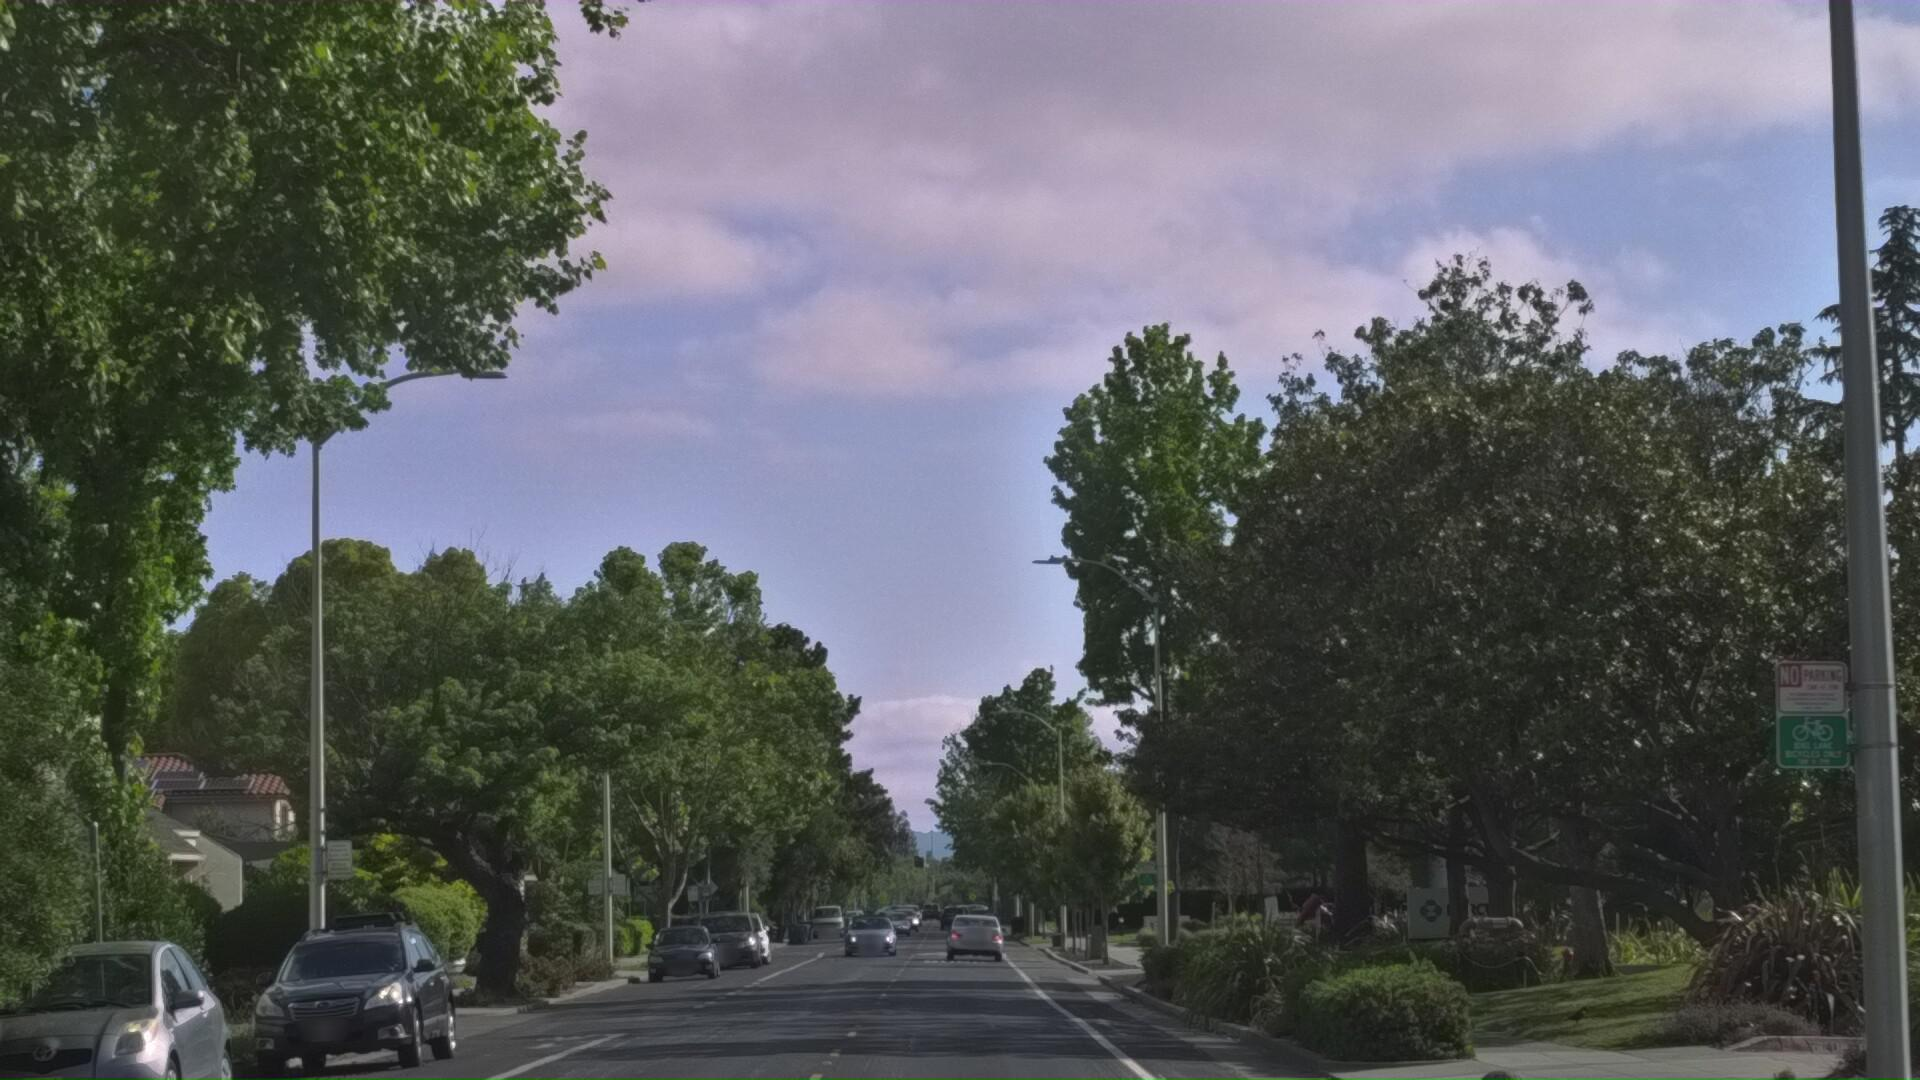car: (233, 994, 472, 1080), (0, 1009, 253, 1080)
